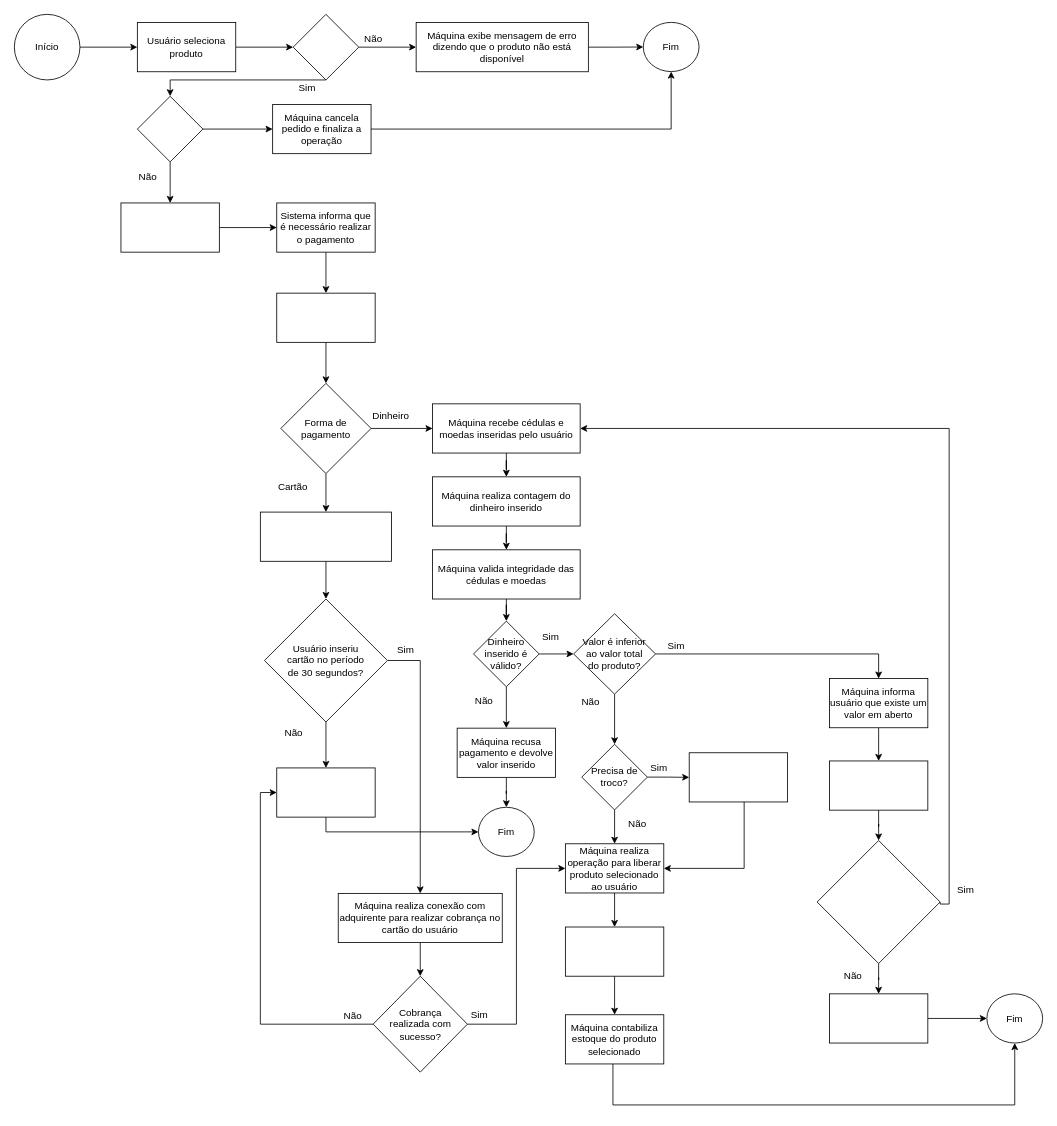
Some shapes in this 1057 by 1126 pixel diagram are drawn without their labels. The shapes that lost their labels are listed below. From the top down, each one's centre as x and y in pixels, then its label:
point 325,47: Contém produto em estoque?
point 170,128: Operação cancelada?
point 169,227: Máquina retorna valor do produto selecionado
point 325,317: Usuário seleciona forma de pagamento
point 326,536: Sistema ativa máquina de cartão e aguarda inserção do cartão do usuário
point 325,792: Máquina cancela pagamento e finaliza a operação
point 738,777: Máquina devolve valor restante como troco
point 878,785: Sistema aguarda inserção do valor faltante
point 878,901: Usuário inseriu valor faltante no período de 30 segundos?
point 614,951: Máquina libera produto
point 878,1018: Máquina devolve todo o valor inserido ao usuário
